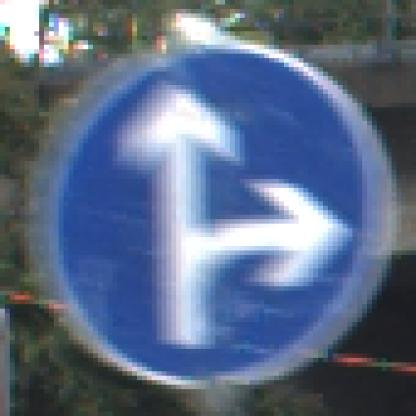Straight or Right: (40, 41, 383, 381)
